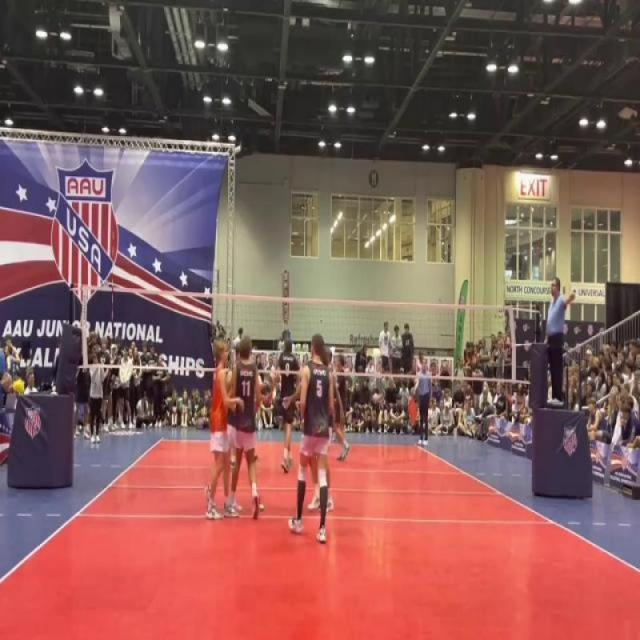volleyball: (372, 392, 380, 405)
